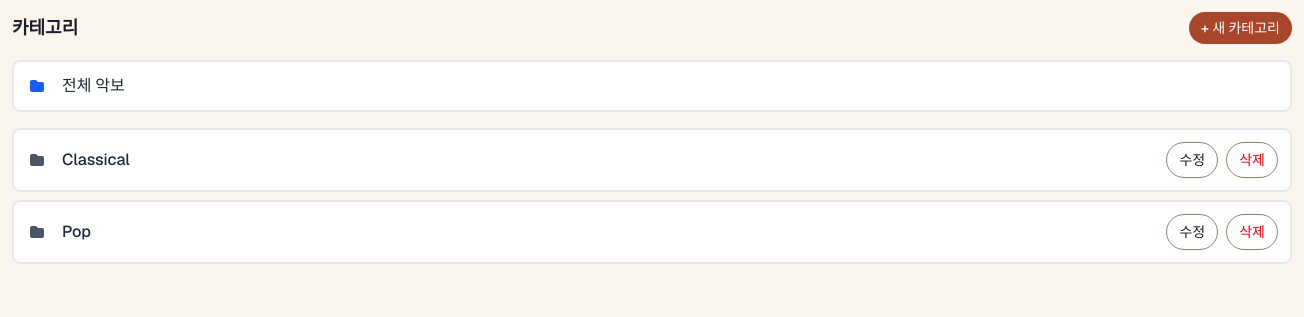
Test: CategoryManager › shows edit form when edit button is clicked
This screenshot has width=1304, height=317.
Click the 1st button "수정" at (1192, 160), box x1=1166 y1=142 x2=1218 y2=178
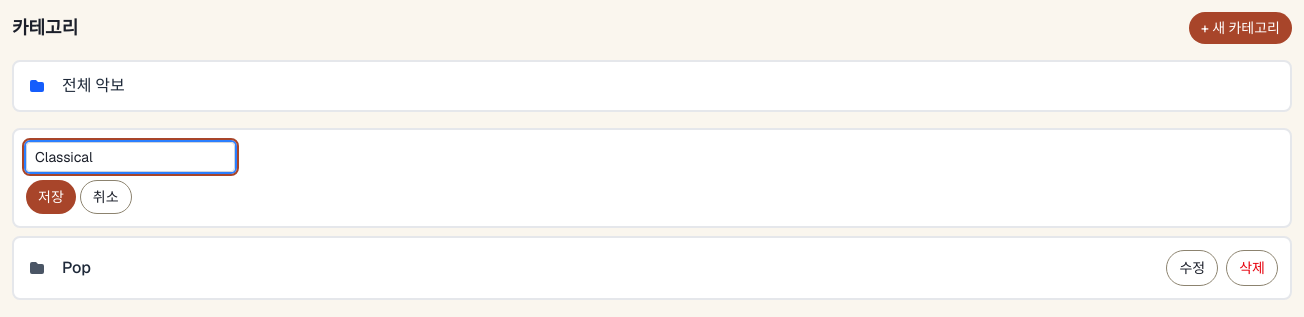
Result: the field showing "Classical" is shown at x1=26 y1=142 x2=235 y2=172
Result: the button "저장" is shown at x1=26 y1=180 x2=76 y2=214
